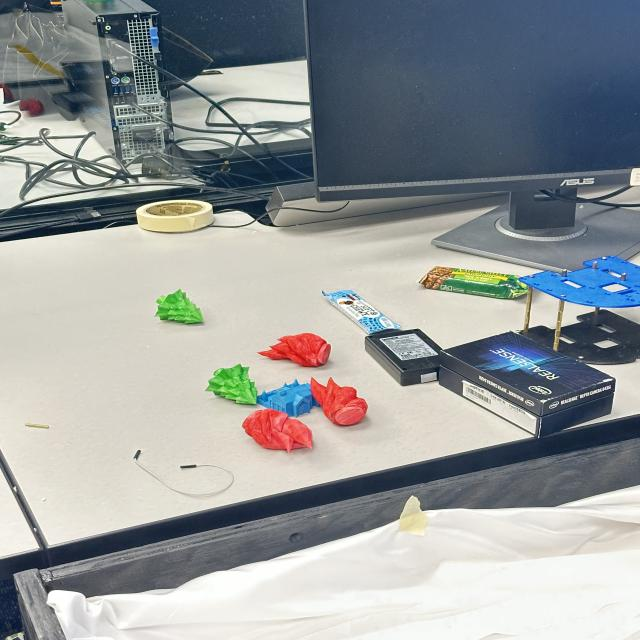fire: (244, 408, 313, 452), (311, 376, 369, 425), (258, 332, 332, 367)
house: (258, 379, 322, 417)
tree: (206, 364, 258, 404), (155, 288, 204, 324)
